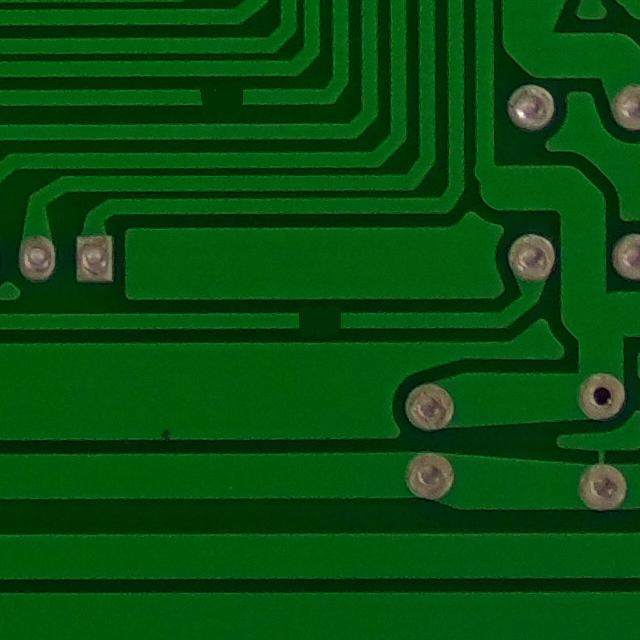open_circuit: (288, 304, 353, 336)
